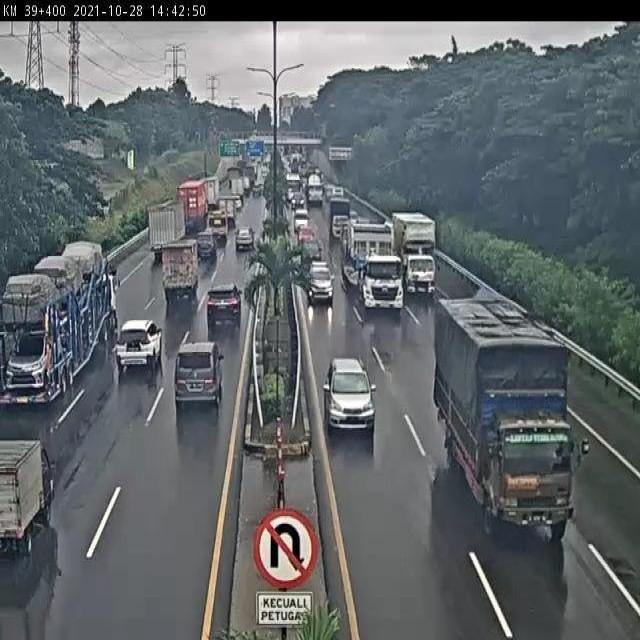big truck: (0, 235, 113, 401)
car: (323, 356, 374, 429), (174, 344, 223, 408), (114, 320, 163, 365), (205, 279, 243, 321), (306, 257, 335, 304), (300, 237, 322, 268), (198, 232, 217, 259), (237, 222, 256, 246)
mid truck: (198, 209, 228, 236)
small truck: (0, 438, 55, 558)
truck-l-: (436, 296, 575, 543), (390, 209, 436, 296)
truck-m-: (165, 238, 201, 298), (151, 200, 192, 249)
truck-xl-: (344, 219, 403, 312)
